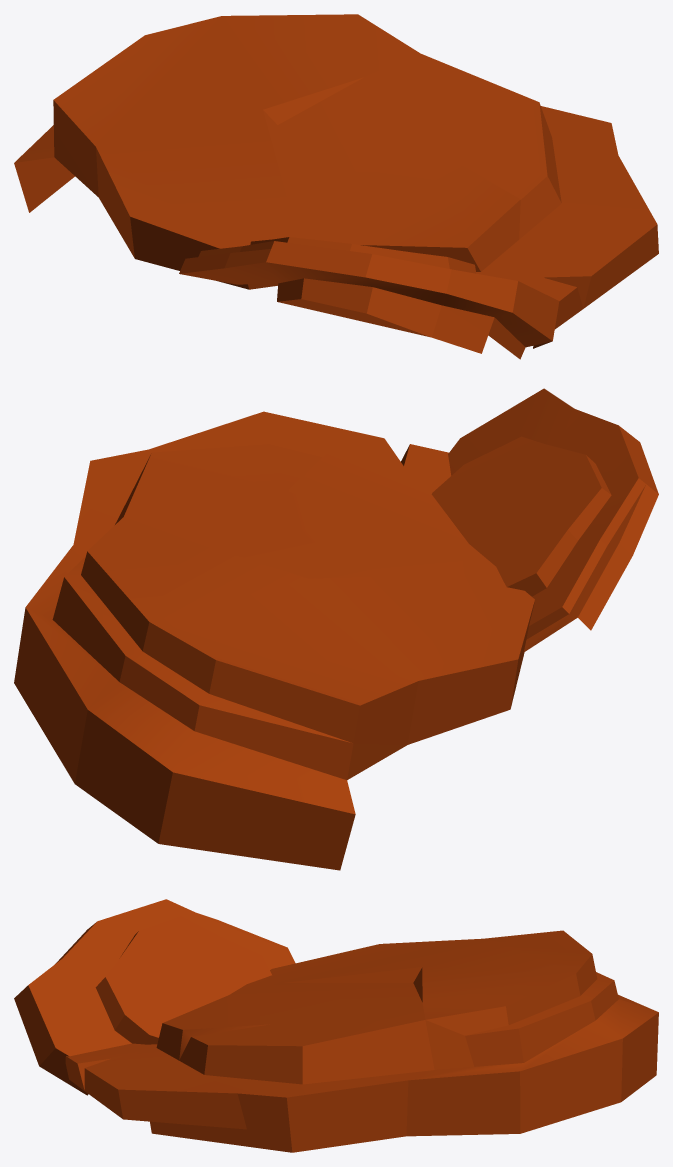
3 views of the same model, one above another, from view 1: azimuth 30°, elevation 25°; view 2: azimuth 150°, elevation 25°; view 3: azimuth 270°, elevation 25° (orthographic). The views are drawn at different scales.
Parts seen in each view (by area): view 1: diorama.016; view 2: diorama.016; view 3: diorama.016.
Boxes of the visible parts, box(x1,y1,x2,y2) form: diorama.016: box(14, 14, 658, 359); diorama.016: box(14, 388, 658, 870); diorama.016: box(14, 899, 658, 1152).
Size of the model in its own units: 62.68 by 23.26 by 92.6.
